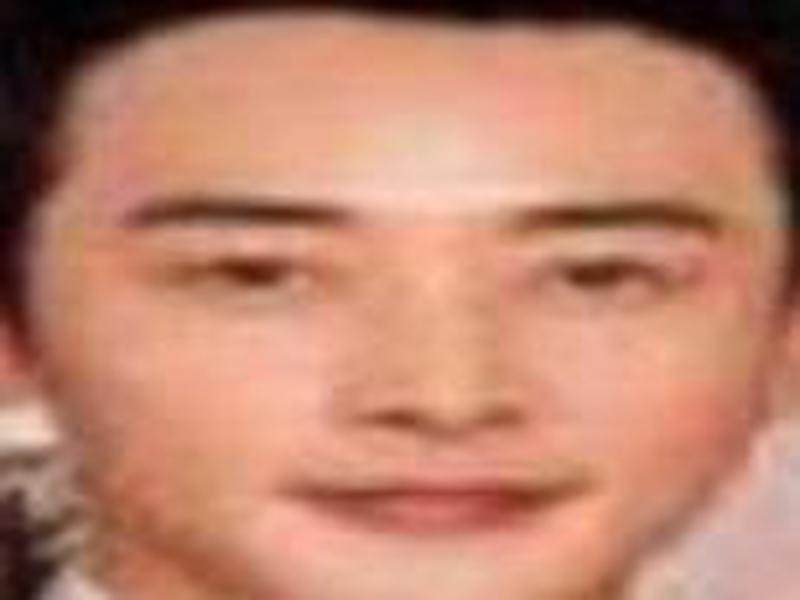without_mask: (44, 38, 768, 587)
